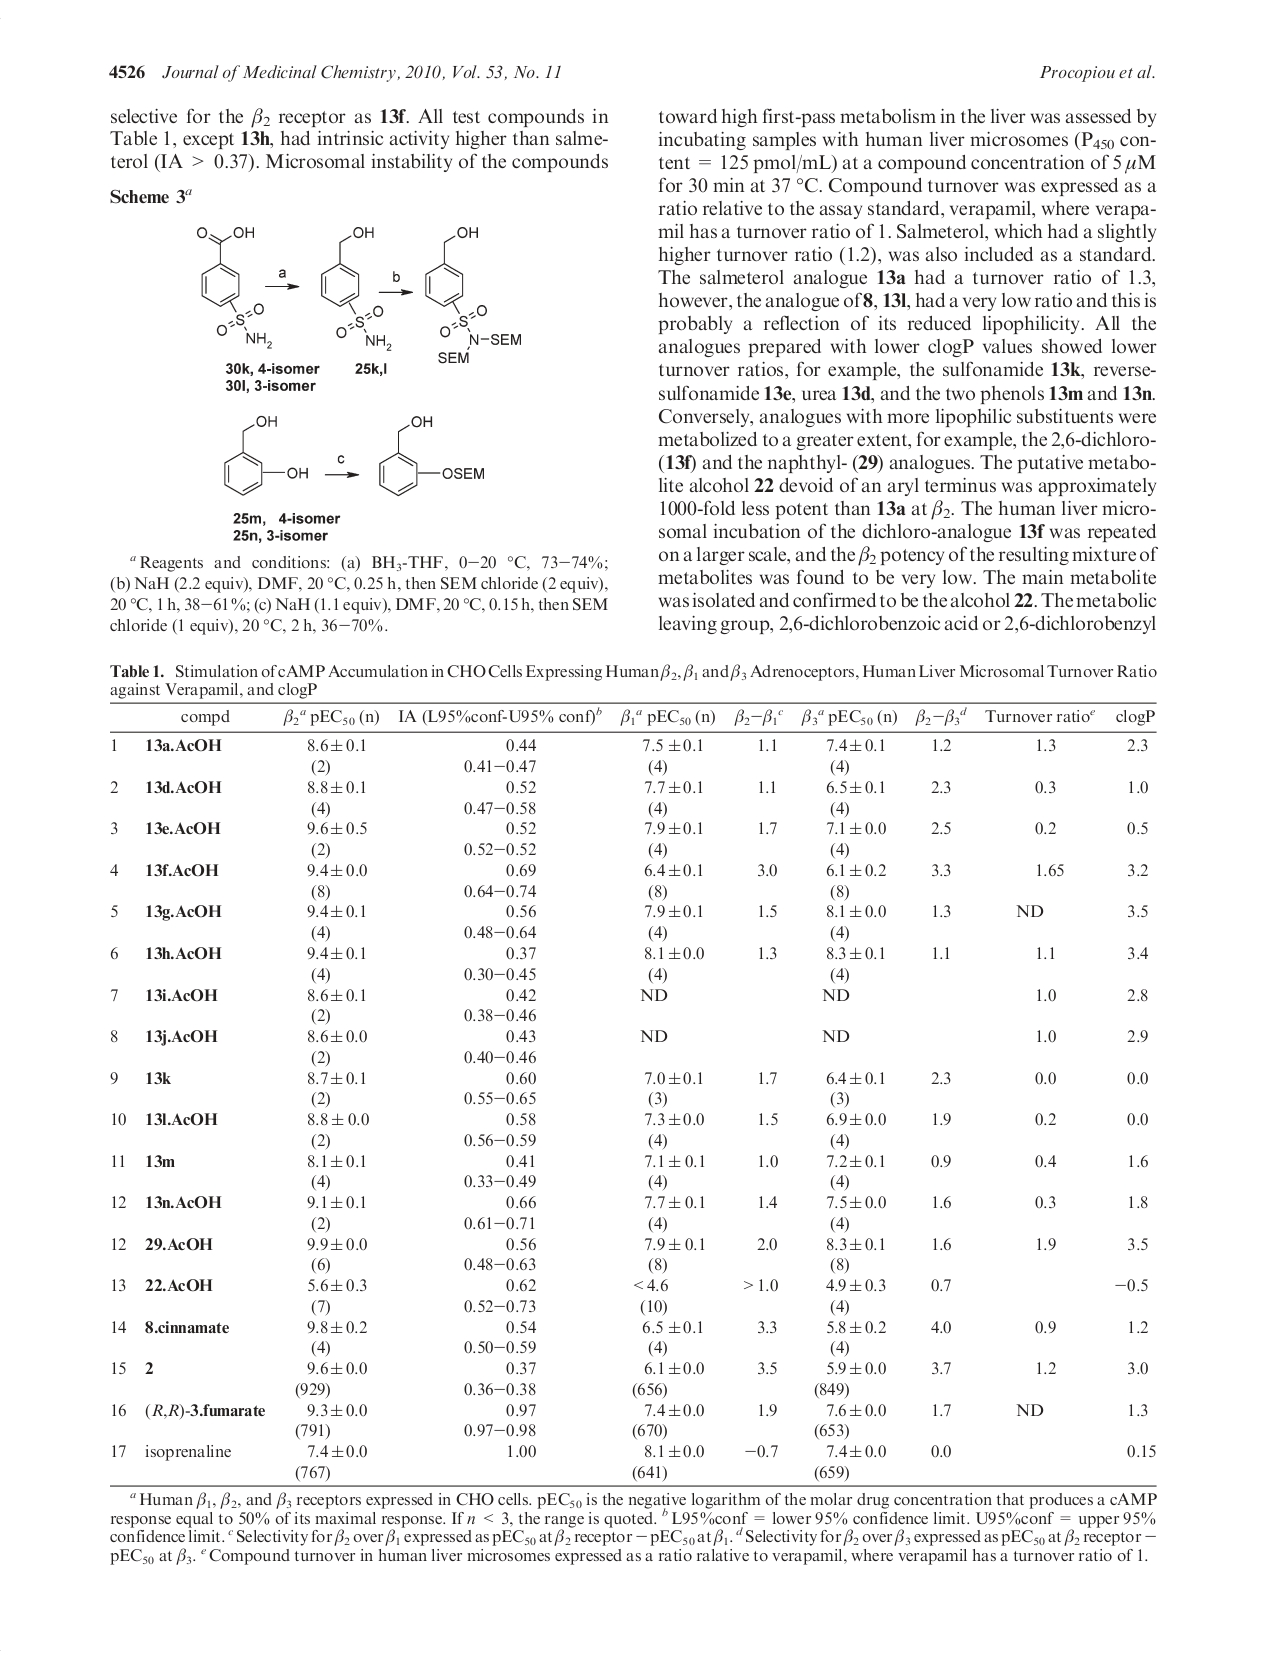exist_molecular: (422, 222, 527, 364), (195, 218, 278, 354), (318, 225, 395, 356), (376, 414, 487, 496), (223, 414, 310, 496)
